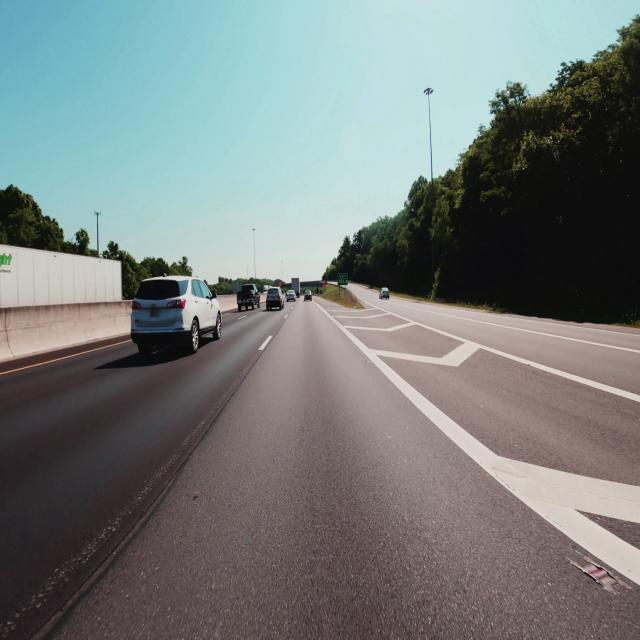car: (131, 276, 221, 355), (237, 284, 260, 312), (266, 287, 283, 310), (379, 287, 389, 299), (286, 290, 295, 301), (304, 290, 312, 301)
